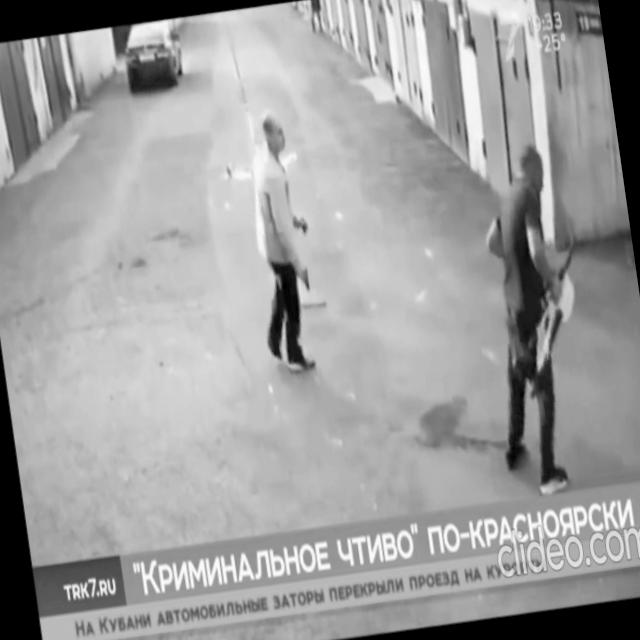gun: (502, 228, 602, 398), (302, 266, 312, 294)
person with a gun: (460, 140, 590, 502), (232, 102, 328, 378)
